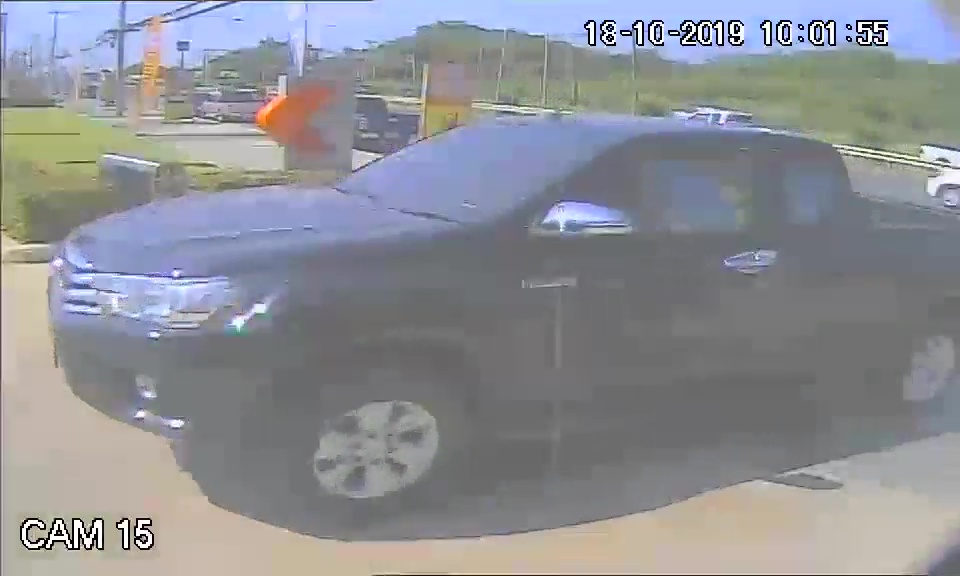pickup: (44, 109, 955, 514)
